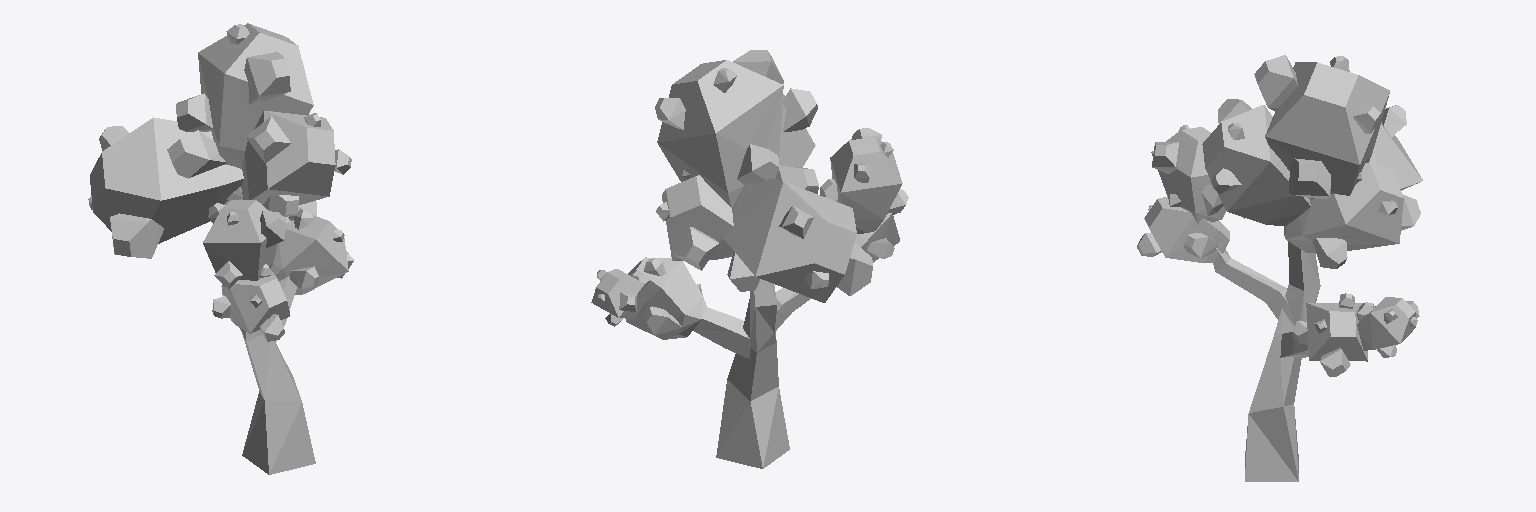
Rendered from tree3.obj.
3 views of the same model, side by side, from view 1: azimuth 30°, elevation 25°; view 2: azimuth 150°, elevation 25°; view 3: azimuth 270°, elevation 25° (orthographic).
Visible parts, largest first — view 1: Tree; view 2: Tree; view 3: Tree.
Boxes of the visible parts, <box> form: Tree: <box>88,23,353,474</box>; Tree: <box>591,50,908,468</box>; Tree: <box>1137,55,1422,481</box>.
Size of the model in its own units: 10.59 by 16.73 by 10.6.